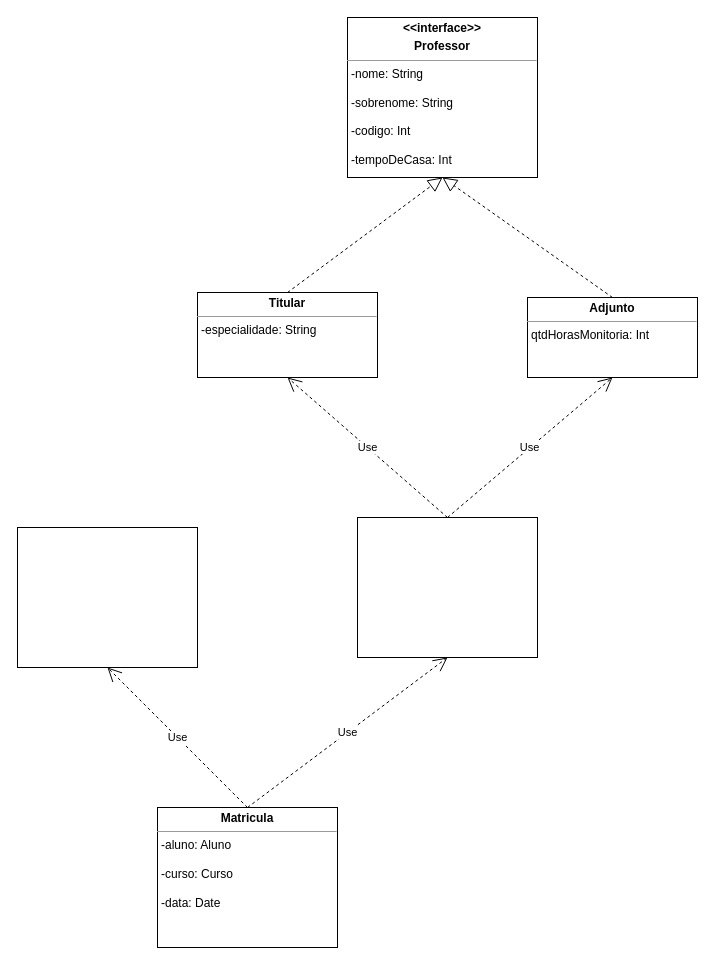
The diagram is 715 pixels wide and 965 high, and some of its shapes have lost their labels. Each missing label, with the centre of its shape:
"Aluno -nome: String -sobrenome: String -codigo: Int" goes at pixel 107 597.
"Curso -nome: String -codigo: Int" goes at pixel 447 587.
